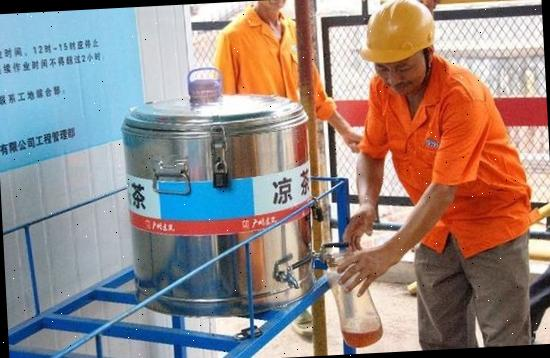helmet: (357, 0, 446, 66)
wear: (370, 82, 520, 248), (220, 14, 309, 100)
